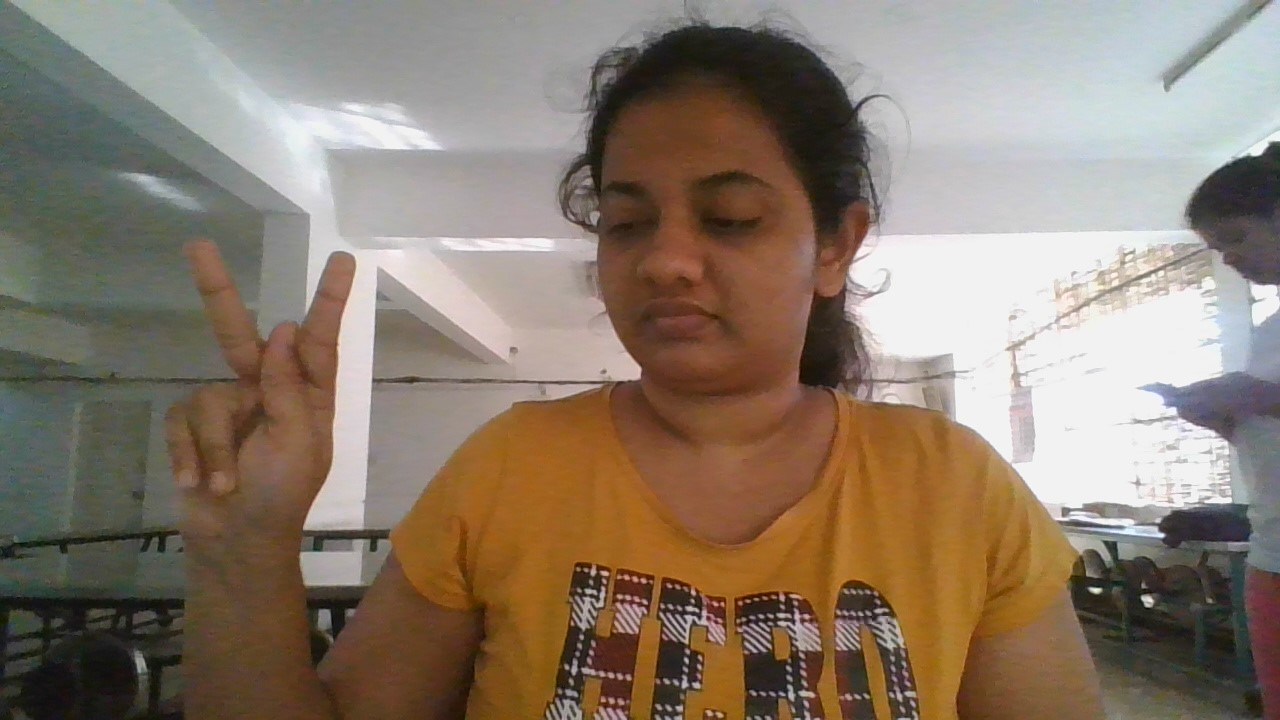k: (153, 232, 363, 555)
